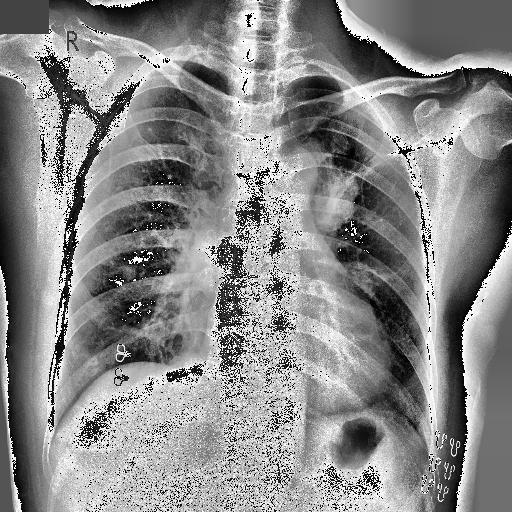3- Cardiomegaly: (202, 308, 392, 412), (204, 318, 386, 419)
4- Consolidation: (300, 137, 360, 228)
7- Lung Opacity: (390, 349, 433, 469), (308, 166, 360, 232), (118, 266, 136, 278)
8- Nodule-Mass: (300, 137, 360, 228), (312, 162, 362, 232), (308, 166, 360, 232), (185, 226, 235, 292), (186, 222, 230, 286), (164, 354, 203, 392), (121, 262, 138, 280), (120, 264, 138, 280)
9- Other lesion: (185, 226, 235, 292)
